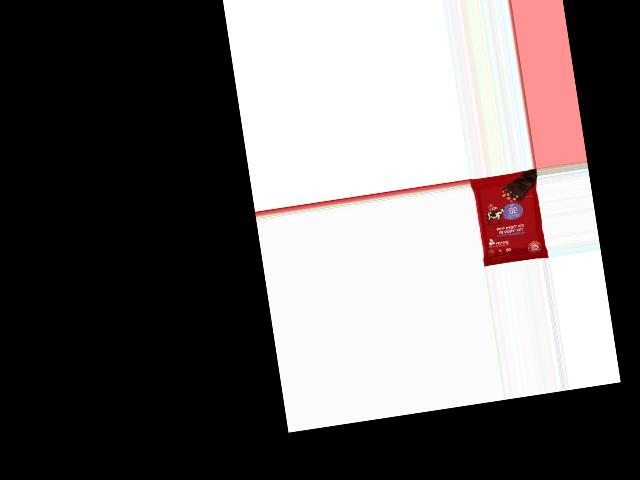chocolate: (470, 170, 547, 268)
